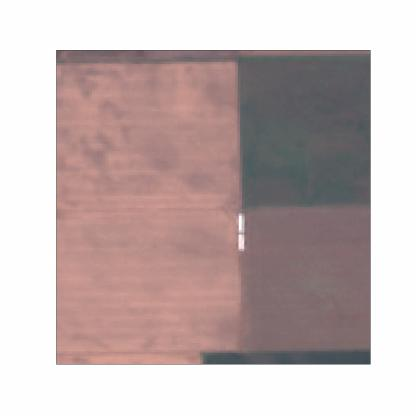silobolsa: (238, 212, 245, 252)
